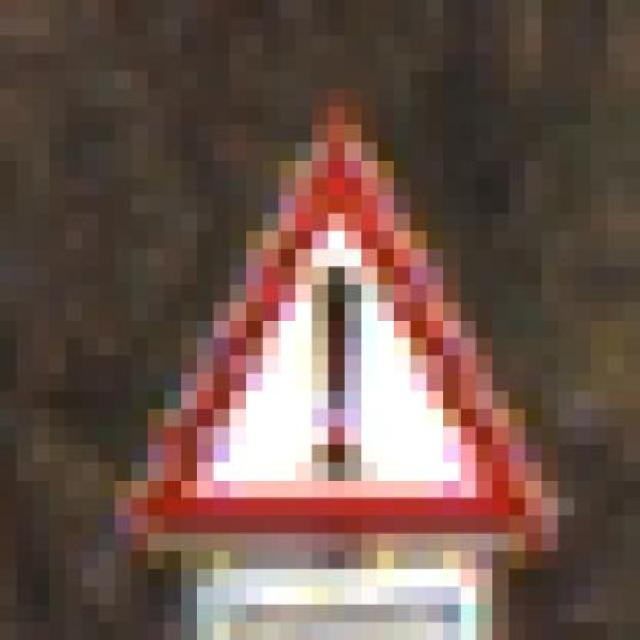Attention Please-: (96, 106, 573, 551)
